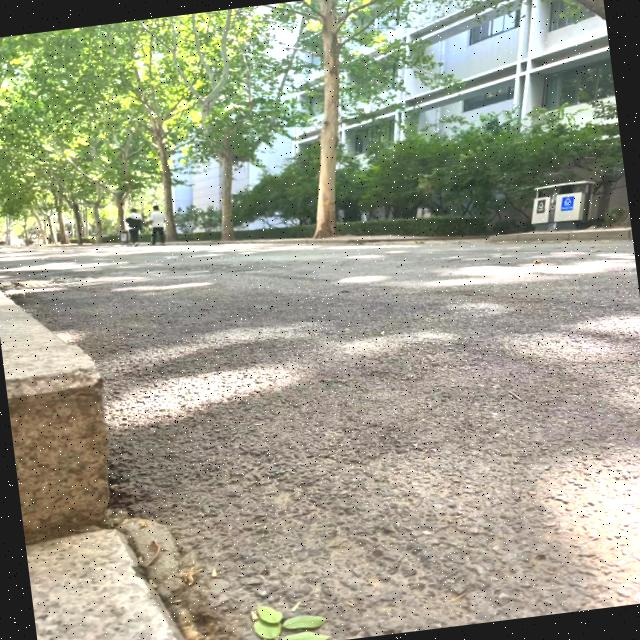curb: (1, 269, 129, 538)
